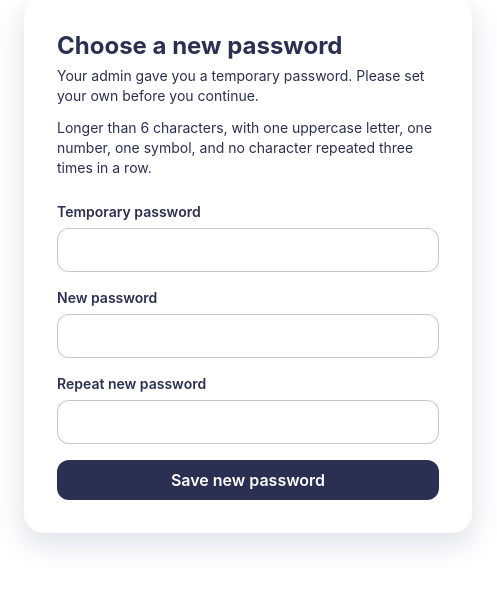
Test: ChangePasswordPage › does not call the API when the two new passwords differ
Type "Temp#1abc" into the password field labelled "Temporary password" at (248, 250), box [57,228,439,272]
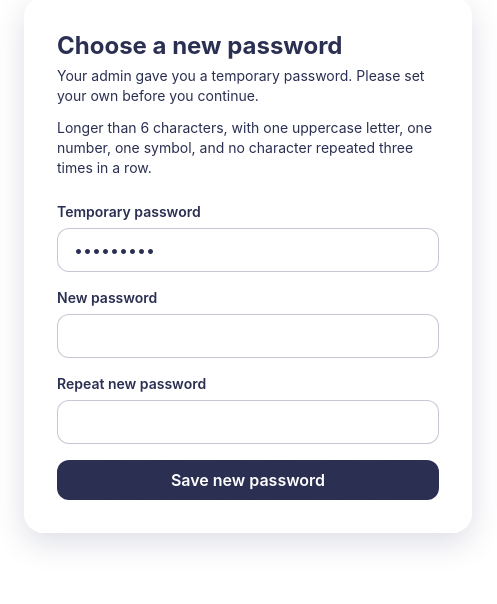
Type "NewPass#2" into the password field labelled "New password" at (248, 336), box [57,314,439,358]
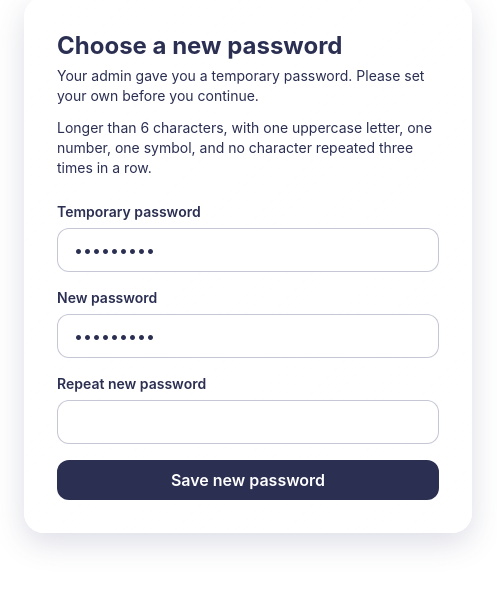
Type "NewPass#3" into the password field labelled "Repeat new password" at (248, 422), box [57,400,439,444]
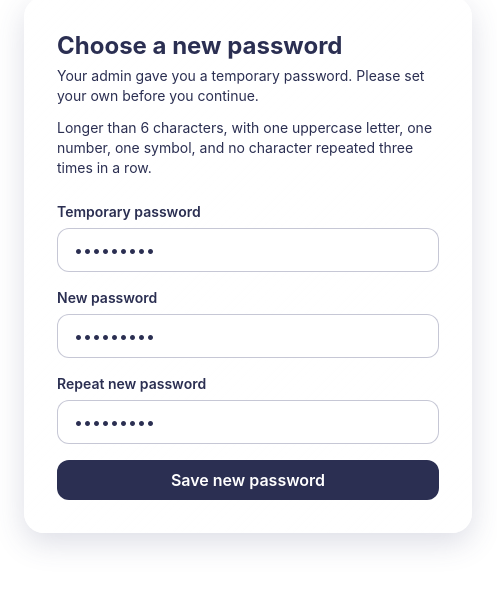
Click the button "Save new password" at (248, 480), box [57,460,439,500]
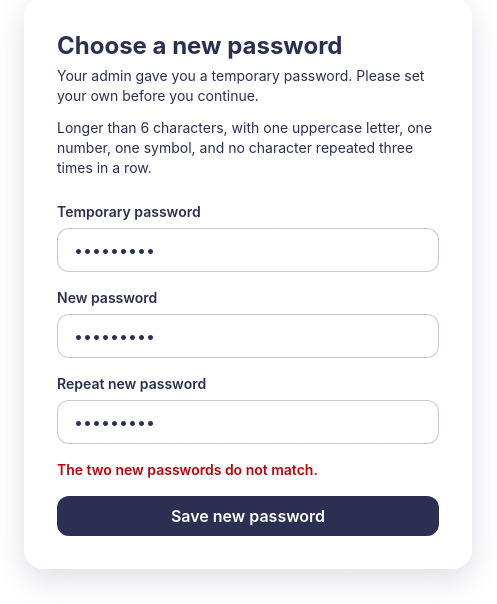
Result: the message reads "The two new passwords do not match." at [57,461,318,478]
